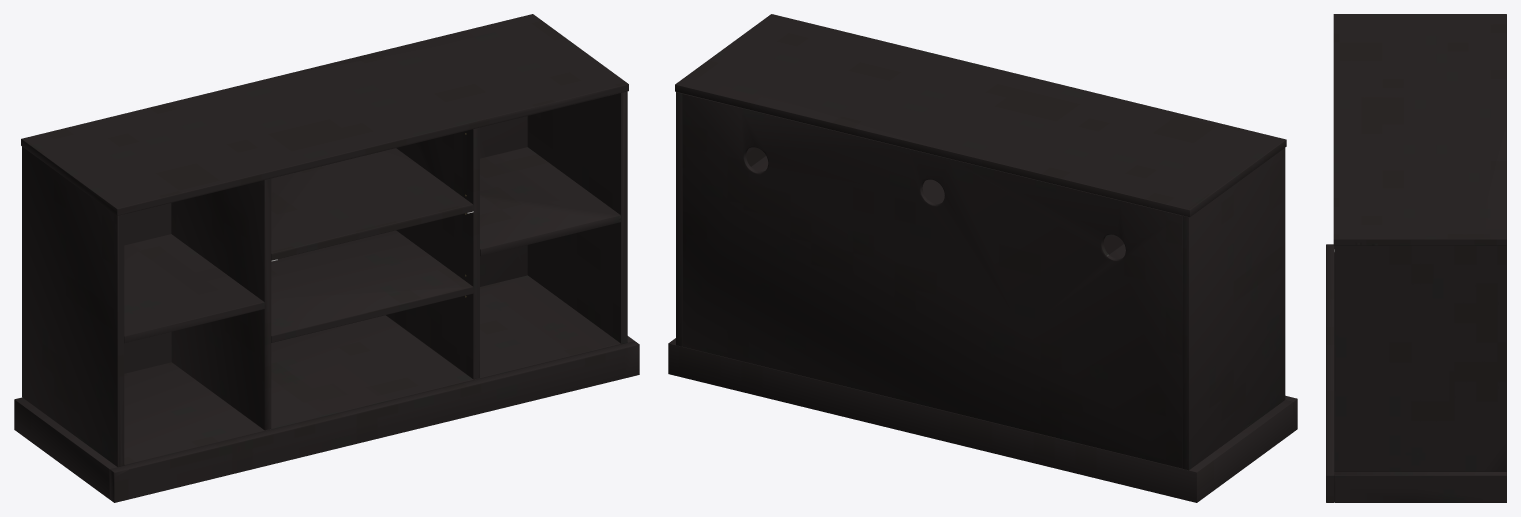
The model's file is B07P7VBMKP.glb.
3 renders of one model, left to right at view 1: azimuth 30°, elevation 25°; view 2: azimuth 150°, elevation 25°; view 3: azimuth 270°, elevation 25°, orthographic. The views are drawn at different scales.
Parts seen in each view (by area): view 1: consolidatedNode; view 2: consolidatedNode; view 3: consolidatedNode.
Part boxes in pixels (<box>): consolidatedNode: <box>14,14,639,502</box>; consolidatedNode: <box>668,14,1297,502</box>; consolidatedNode: <box>1326,14,1506,502</box>.
Bounding box in the file's own units: 1.21 × 0.635 × 0.3987.
1 material, 1 textured.
